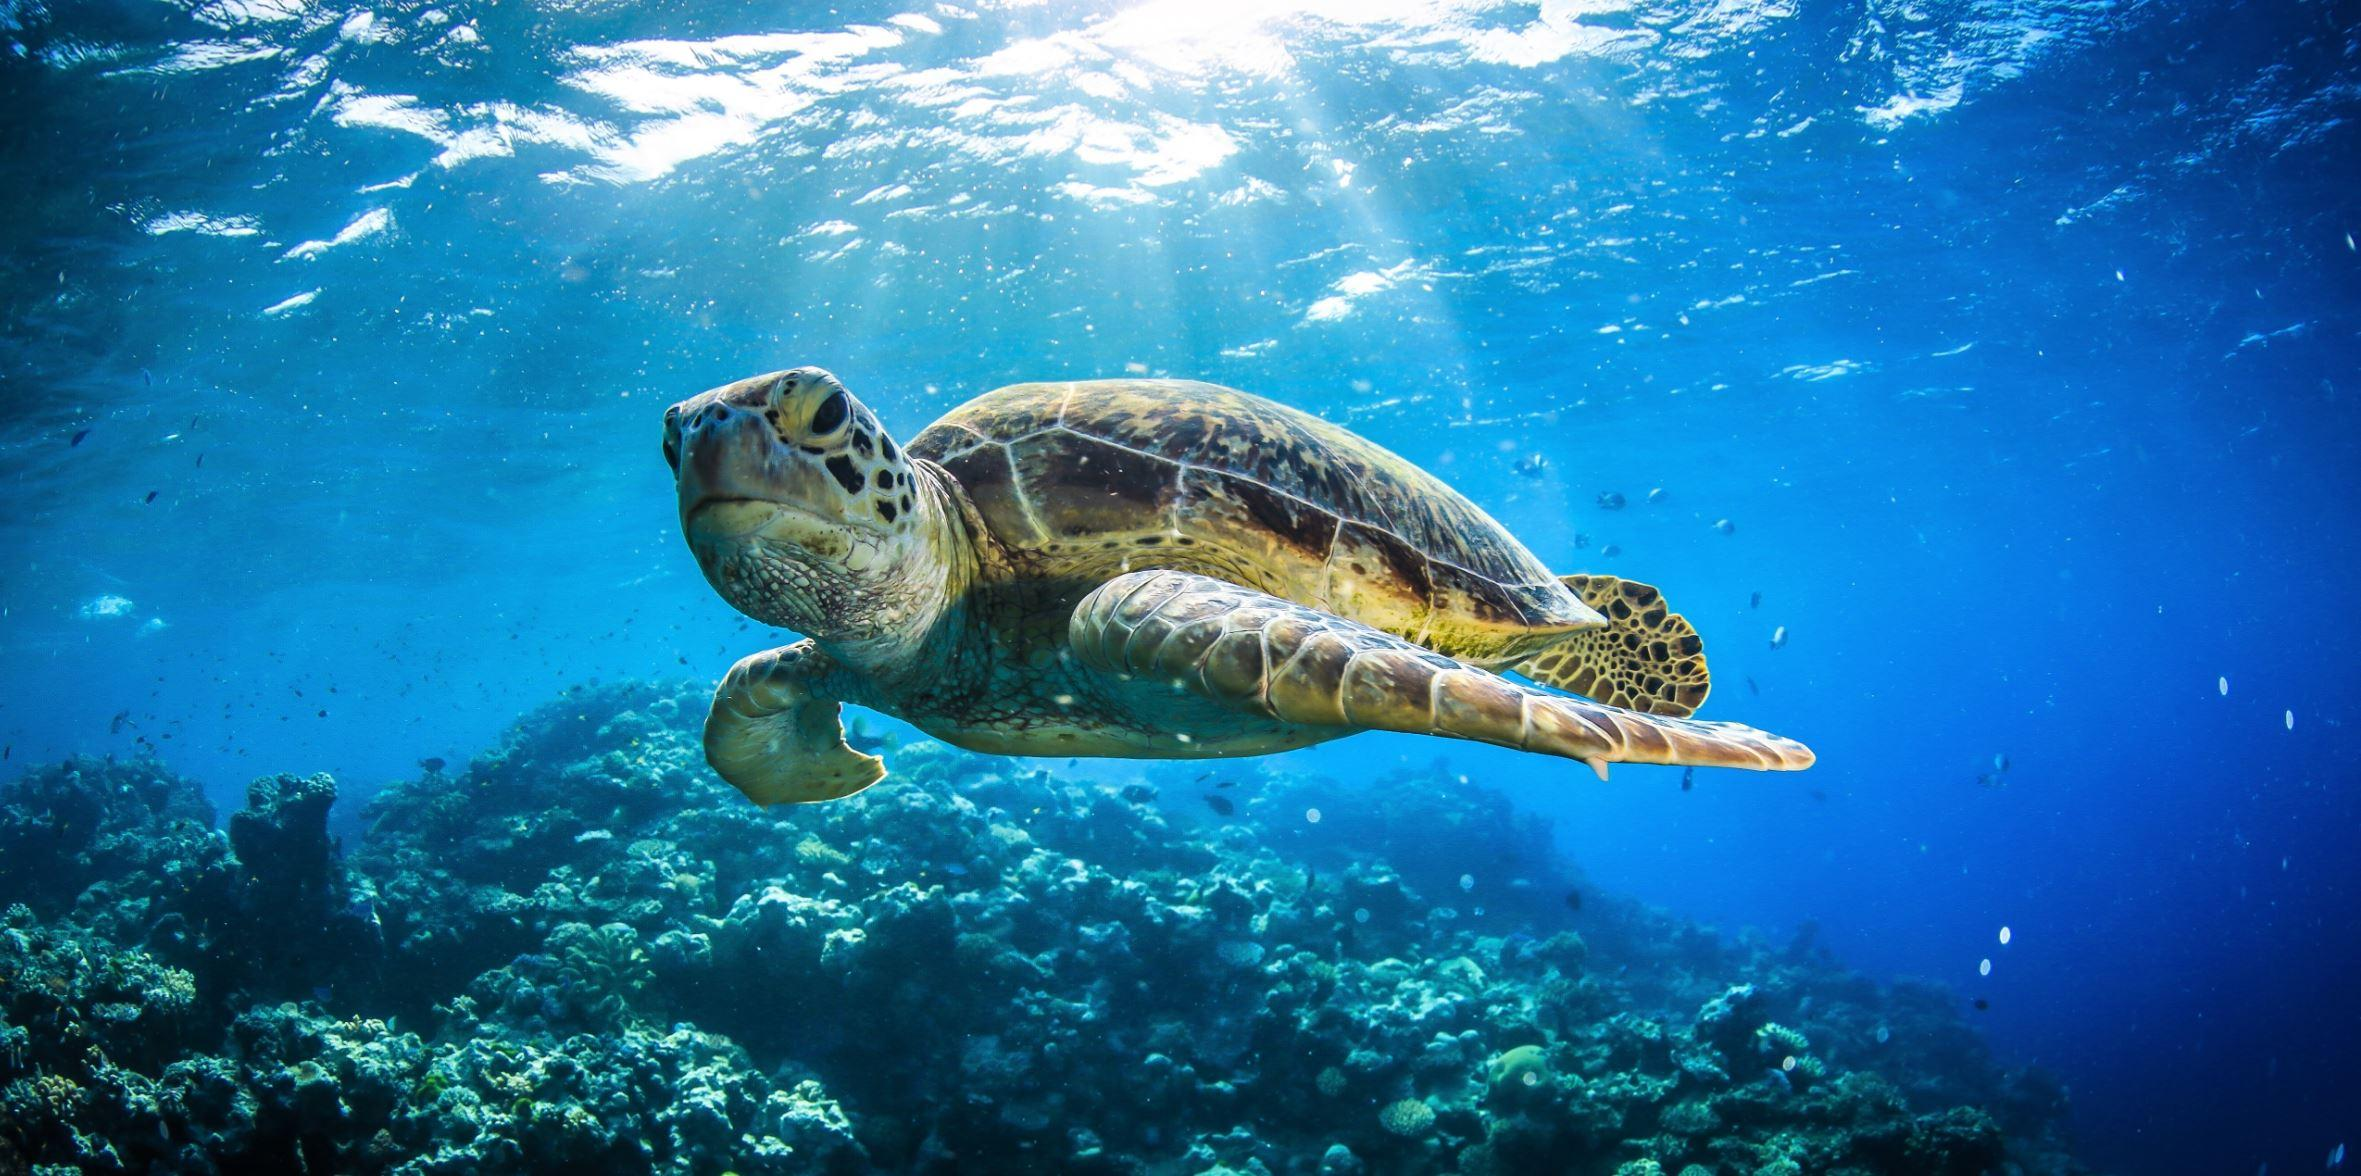turtle: (635, 328, 931, 655)
